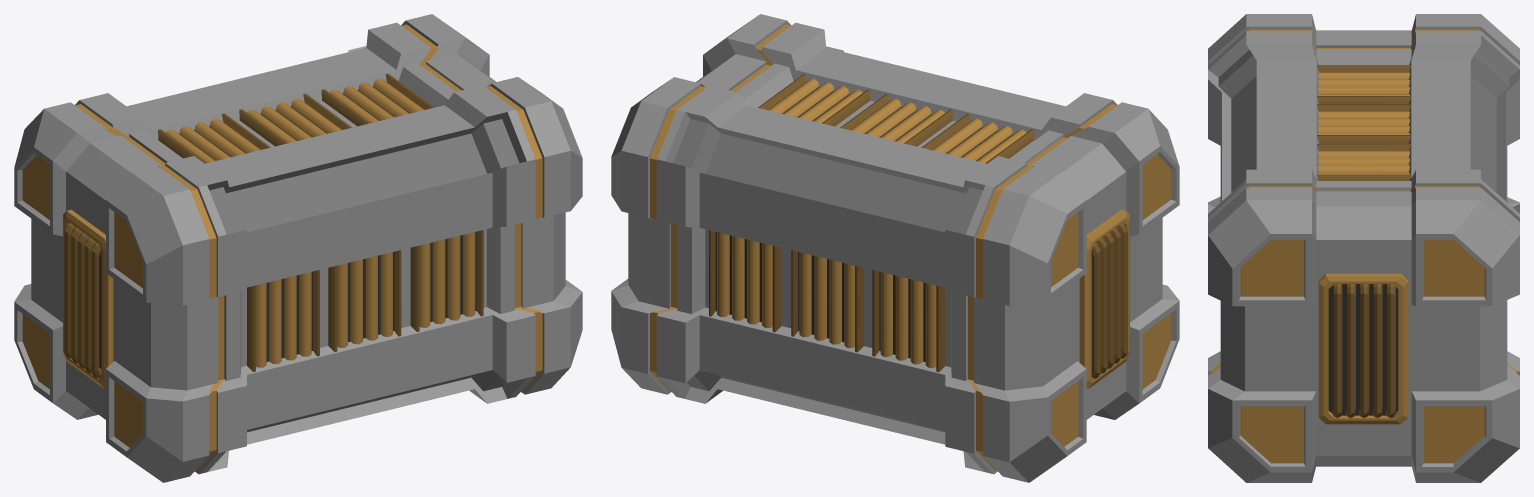
3 renders of one model, left to right at view 1: azimuth 30°, elevation 25°; view 2: azimuth 150°, elevation 25°; view 3: azimuth 270°, elevation 25°, orthographic.
Parts seen in each view (by area): view 1: Props_CrateLong; view 2: Props_CrateLong; view 3: Props_CrateLong.
Boxes of the visible parts, bbox=[...] form: Props_CrateLong: bbox=[14, 14, 582, 482]; Props_CrateLong: bbox=[611, 14, 1179, 482]; Props_CrateLong: bbox=[1208, 14, 1519, 482].
Size of the model in its own units: 1.23 by 0.7698 by 0.7698.
